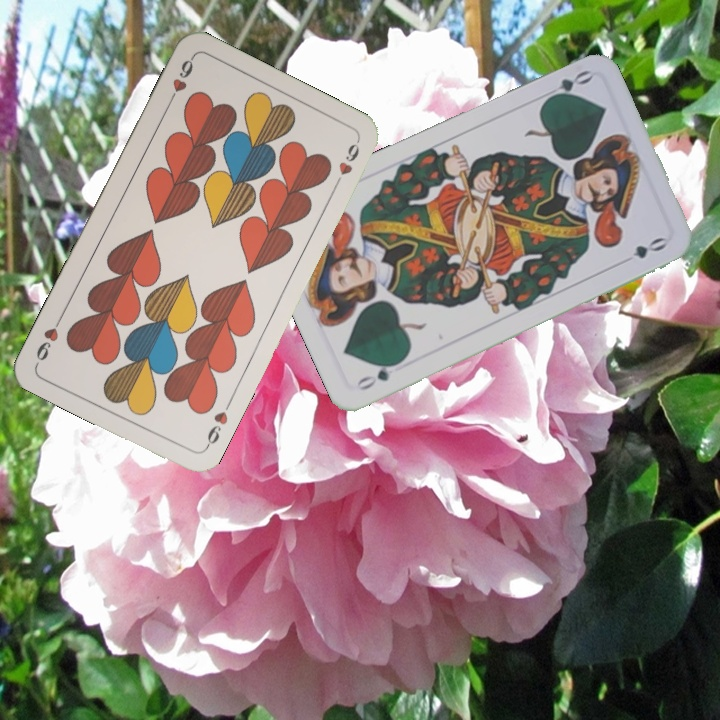GO: (540, 66, 595, 105), (352, 356, 405, 393)
H9: (163, 53, 197, 108), (201, 407, 231, 453)
